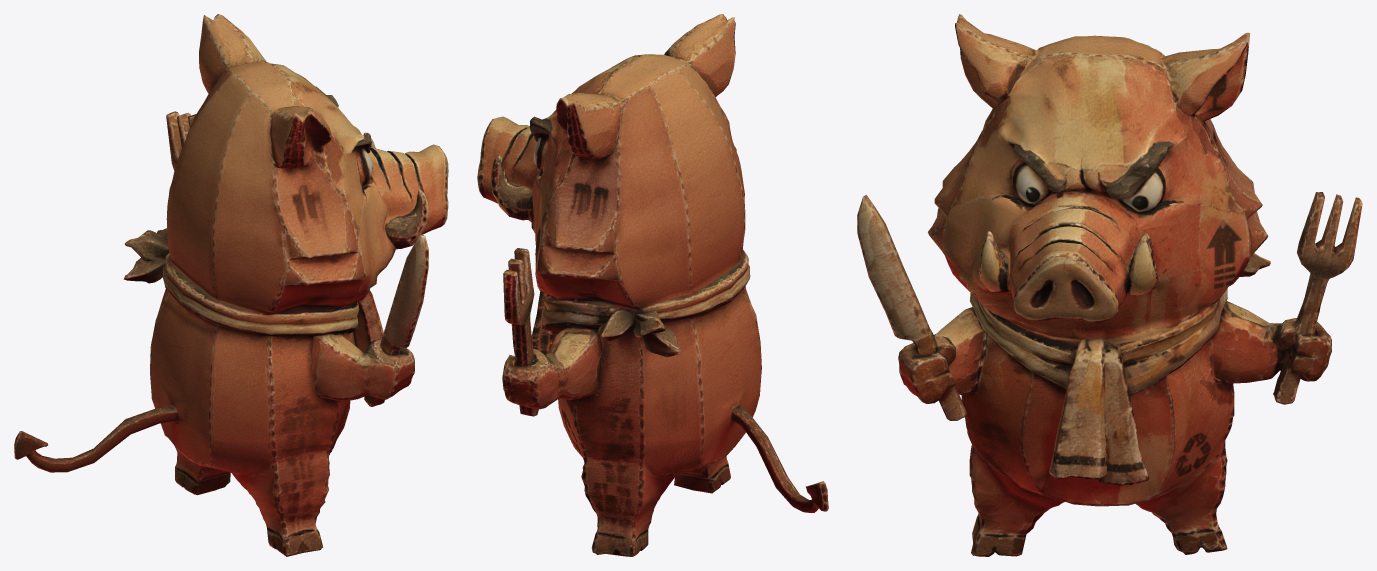
3 renders of one model, left to right at view 1: azimuth 30°, elevation 25°; view 2: azimuth 150°, elevation 25°; view 3: azimuth 270°, elevation 25°, orthographic. The views are drawn at different scales.
Visible parts, largest first — view 1: tripo_node_7418c4ae-907c-4fbe-9794-384a5ded68bc; view 2: tripo_node_7418c4ae-907c-4fbe-9794-384a5ded68bc; view 3: tripo_node_7418c4ae-907c-4fbe-9794-384a5ded68bc.
Boxes of the visible parts, box(x1,y1,x2,y2) form: tripo_node_7418c4ae-907c-4fbe-9794-384a5ded68bc: box(14, 14, 448, 556); tripo_node_7418c4ae-907c-4fbe-9794-384a5ded68bc: box(477, 14, 828, 556); tripo_node_7418c4ae-907c-4fbe-9794-384a5ded68bc: box(857, 14, 1362, 556).
Bounding box in the file's own units: 0.8636 × 0.9768 × 0.854.
1 material, 1 textured.
